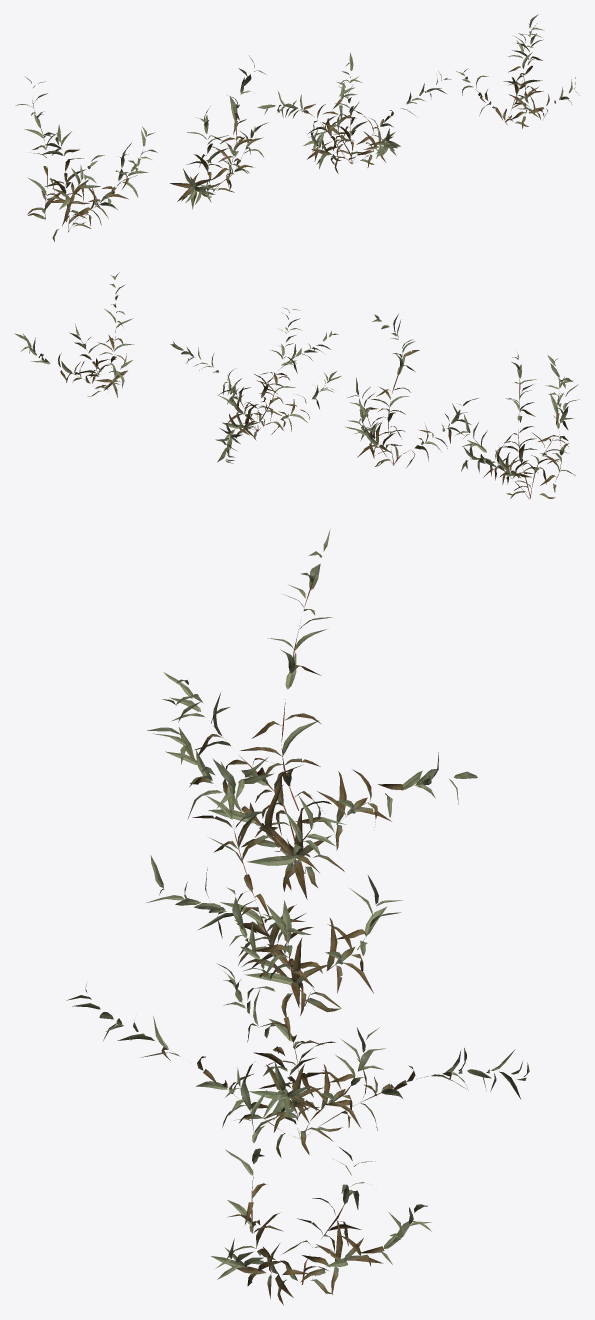
Rendered from shrub_02.glb.
3 renders of one model, top to bottom at view 1: azimuth 30°, elevation 25°; view 2: azimuth 150°, elevation 25°; view 3: azimuth 270°, elevation 25°, orthographic. The views are drawn at different scales.
Parts seen in each view (by area): view 1: shrub_02_a; view 2: shrub_02_a; view 3: shrub_02_a.
Boxes of the visible parts, box(x1,y1,x2,y2) form: shrub_02_a: box(15, 14, 579, 241); shrub_02_a: box(14, 272, 578, 499); shrub_02_a: box(66, 529, 529, 1305).
Bounding box in the file's own units: 6.05 × 1.7 × 2.28.
1 material, 1 textured.
